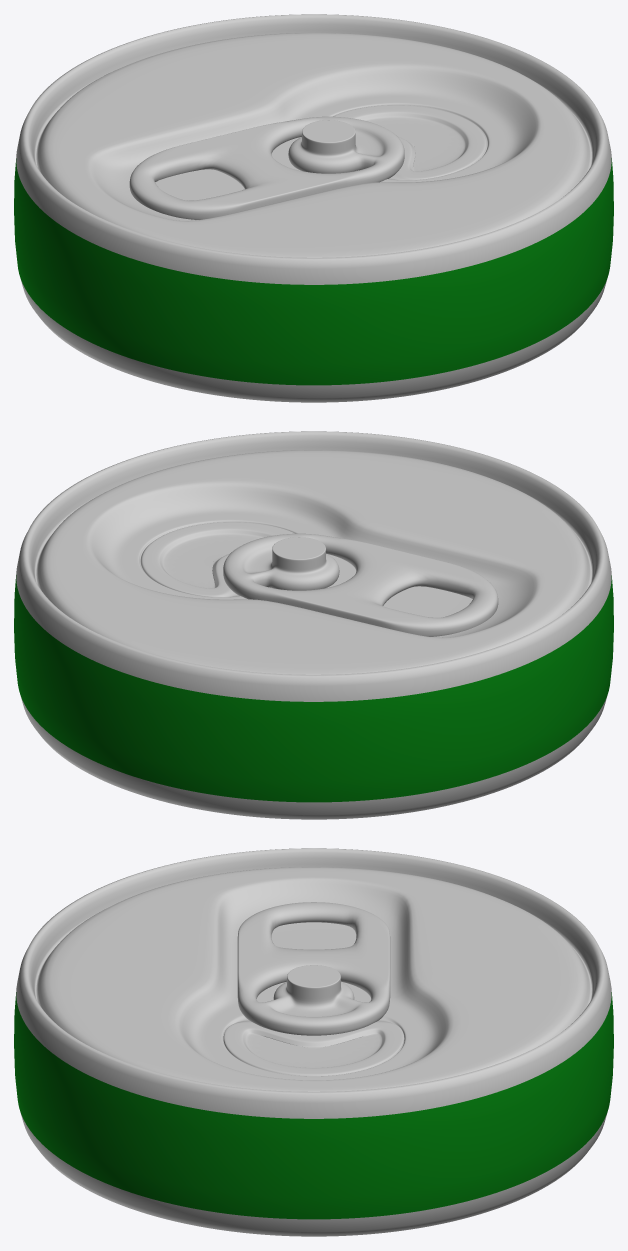
Rendered from can_green.fbx.
3 renders of one model, top to bottom at view 1: azimuth 30°, elevation 25°; view 2: azimuth 150°, elevation 25°; view 3: azimuth 270°, elevation 25°, orthographic.
Visible parts, largest first — view 1: 원형, 원형.001; view 2: 원형, 원형.001; view 3: 원형, 원형.001.
Boxes of the visible parts, box(x1,y1,x2,y2) form: 원형: box(14, 14, 613, 402); 원형.001: box(129, 116, 404, 219); 원형: box(14, 431, 613, 819); 원형.001: box(223, 533, 498, 636); 원형: box(14, 848, 613, 1236); 원형.001: box(237, 902, 390, 1035).
Size of the model in its own units: 488 by 133 by 488.
